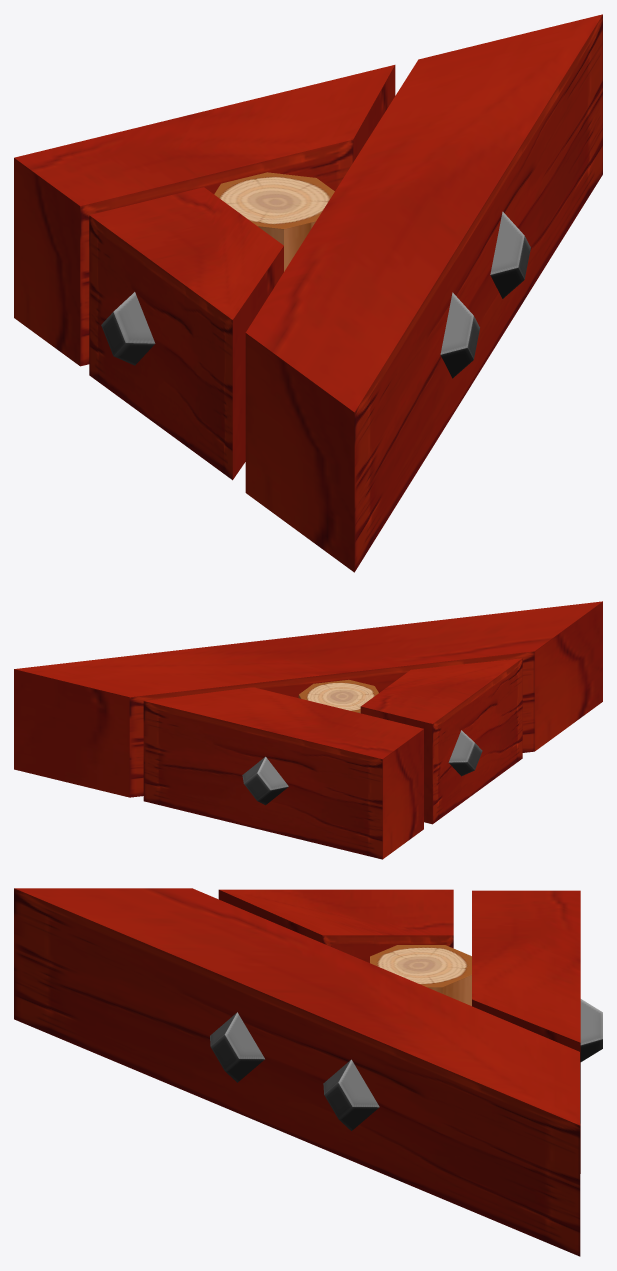
File: triangle_red_01.fbx
The picture shows the model from 3 angles, top to bottom: view 1: azimuth 30°, elevation 25°; view 2: azimuth 150°, elevation 25°; view 3: azimuth 270°, elevation 25°; orthographic projection. The views are drawn at different scales.
Parts seen in each view (by area): view 1: wall_13, wall_14, wall_15, Middle_3; view 2: wall_13, wall_14, wall_15, Middle_3; view 3: wall_13, wall_14, wall_15, Middle_3.
Boxes of the visible parts, box(x1,y1,x2,y2) form: wall_13: box(245, 14, 602, 572); wall_14: box(14, 65, 395, 366); wall_15: box(89, 187, 283, 480); Middle_3: box(214, 172, 334, 271); wall_13: box(14, 601, 602, 797); wall_14: box(143, 687, 423, 859); wall_15: box(360, 658, 522, 824); Middle_3: box(298, 679, 378, 713); wall_13: box(14, 888, 580, 1256); wall_14: box(472, 890, 602, 1173); wall_15: box(218, 889, 453, 962); Middle_3: box(370, 945, 471, 1005).
Bounding box in the file's own units: 160 × 40 × 163.
